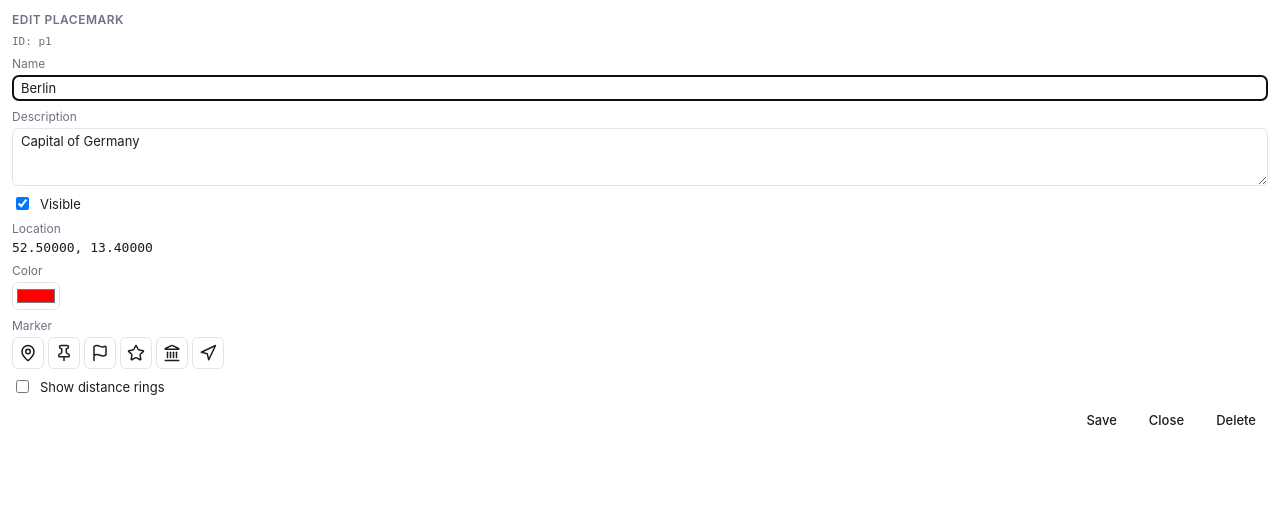
it: PlacemarkEditor - distance rings (session-only) › hides the ring fields until the checkbox is checked
Expected: the field labelled "Ring spacing" is not shown
Expected: the field labelled "Disc radius" is not shown
Click the checkbox labelled "Show distance rings" at (22, 386), box x1=16 y1=380 x2=29 y2=393
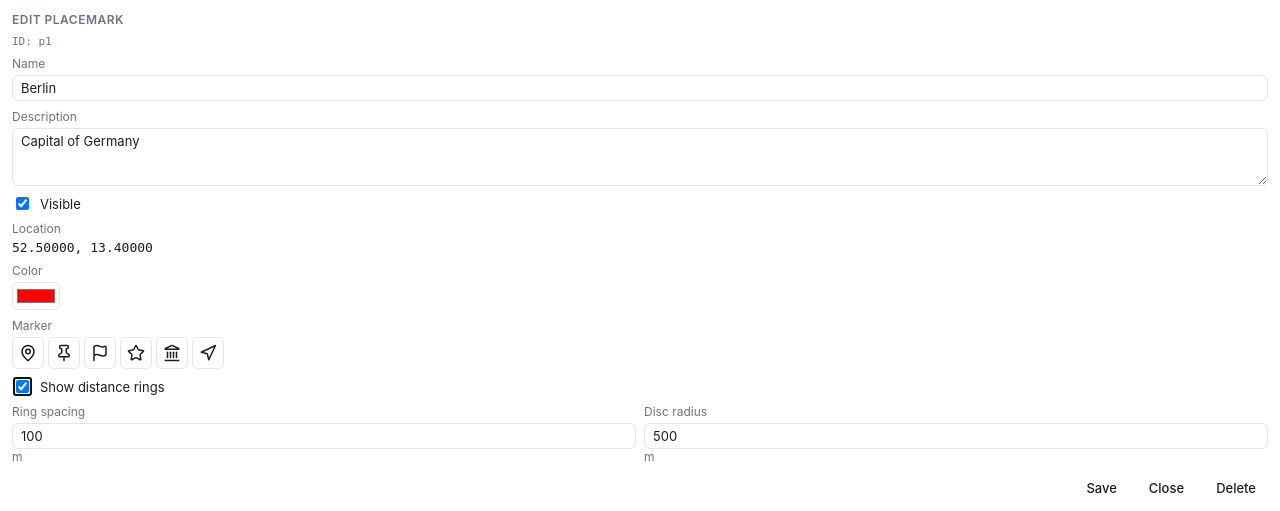
Result: the number field labelled "Ring spacing" holds "100" at x1=12 y1=423 x2=636 y2=449
Result: the number field labelled "Disc radius" holds "500" at x1=644 y1=423 x2=1268 y2=449
